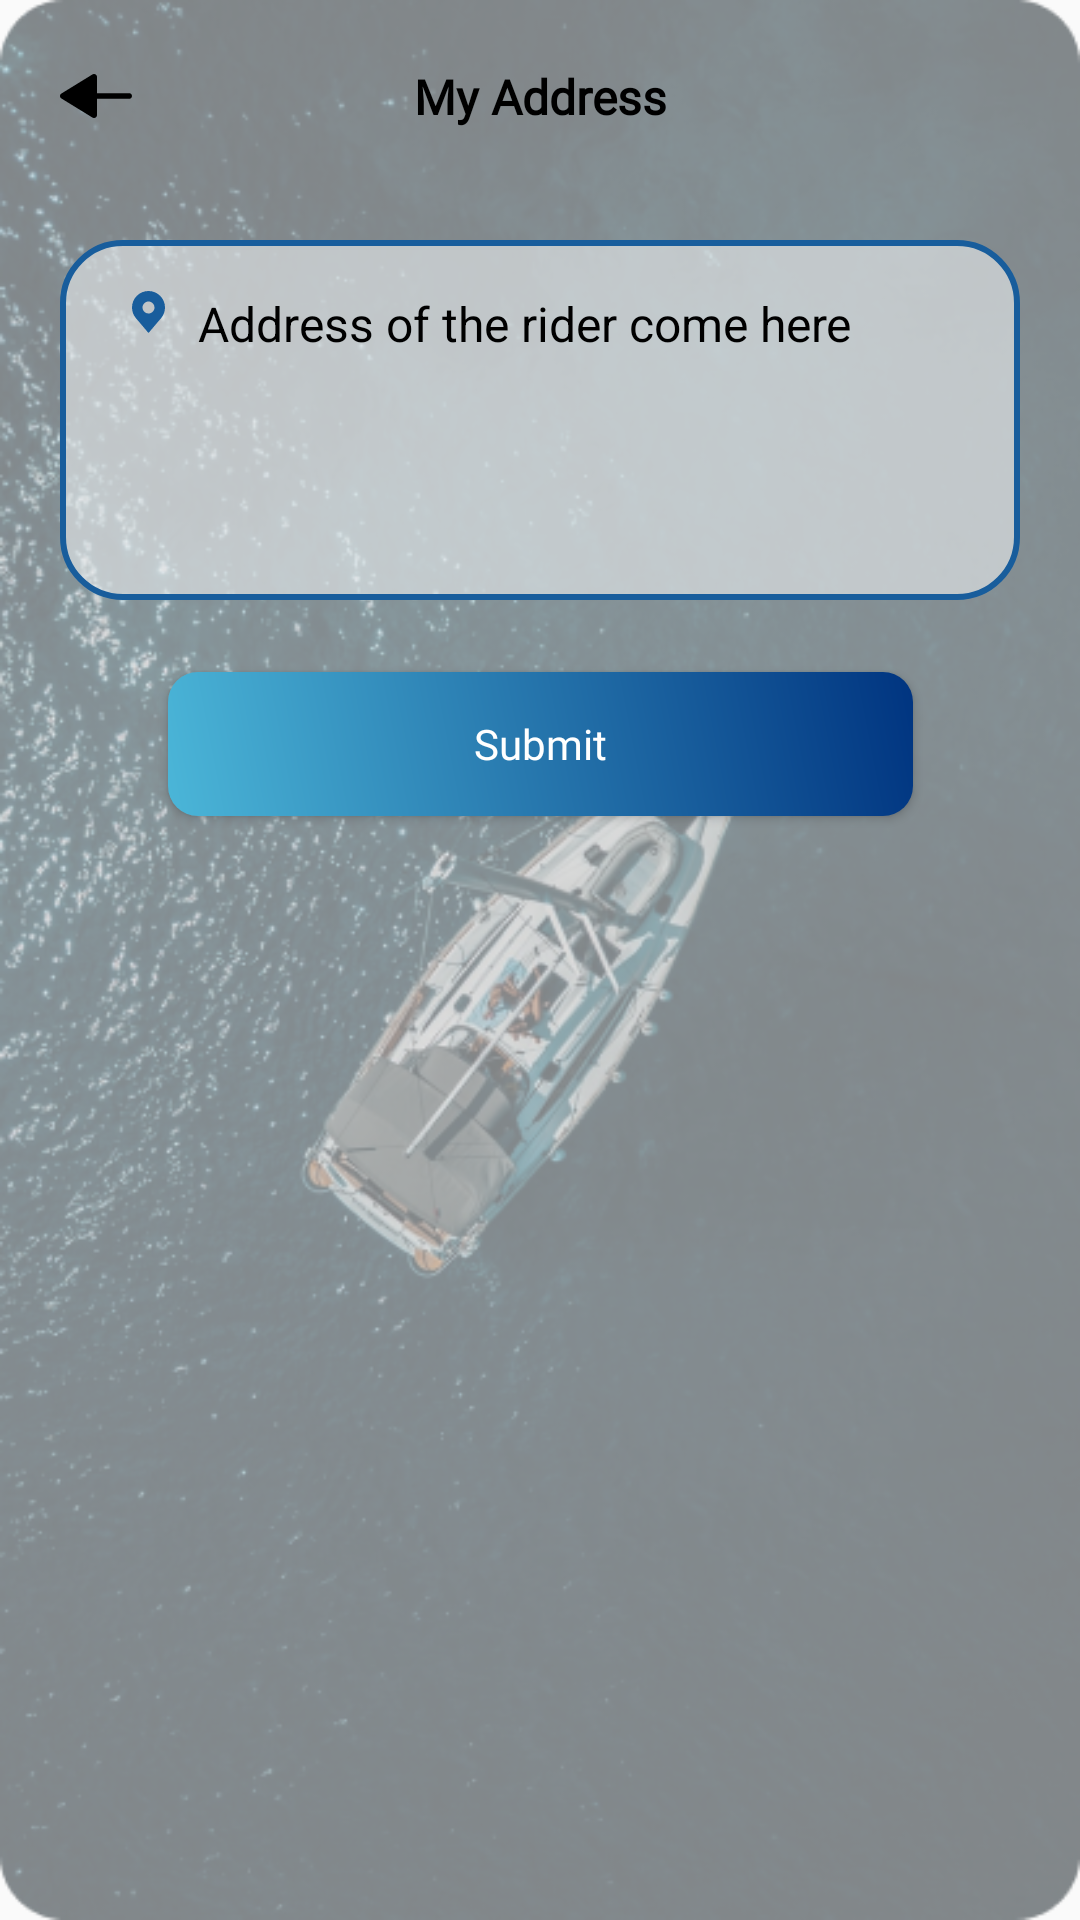

Screen size 1080*1920. Icon name, then its center in pixels as [x,y]:
backarrowblack: [96,109]
